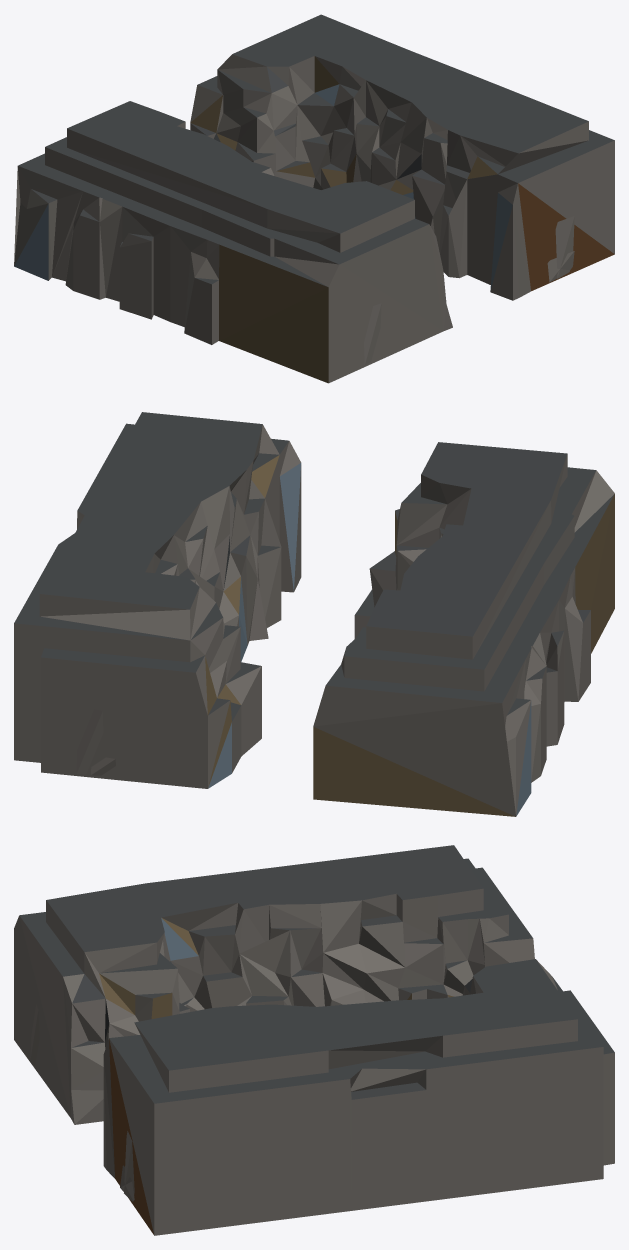
Rendered from ceramiquelaan-437.lod2.glb.
The picture shows the model from 3 angles, top to bottom: view 1: azimuth 30°, elevation 25°; view 2: azimuth 150°, elevation 25°; view 3: azimuth 270°, elevation 25°; orthographic projection. The views are drawn at different scales.
Visible parts, largest first — view 1: lod2; view 2: lod2; view 3: lod2.
Boxes of the visible parts, bbox=[...] form: lod2: bbox=[14, 14, 614, 383]; lod2: bbox=[14, 412, 614, 816]; lod2: bbox=[14, 845, 614, 1235].
Bounding box in the file's own units: 83.14 × 22.89 × 80.73.
